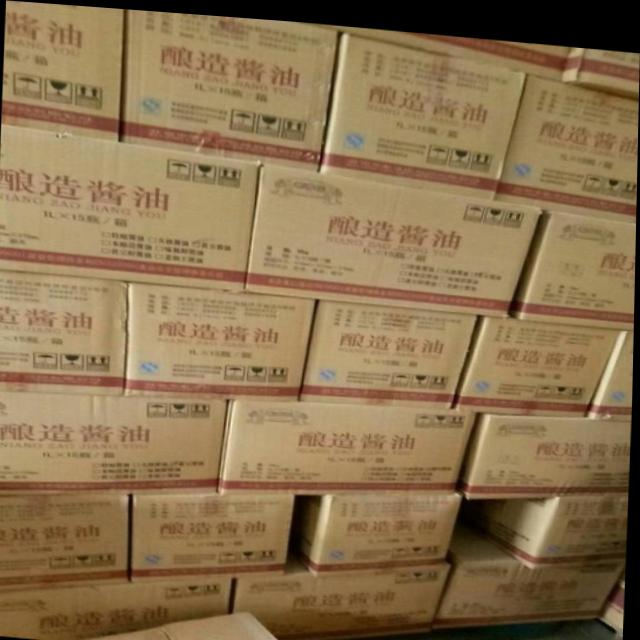box: (245, 157, 541, 312), (0, 124, 264, 288), (122, 8, 346, 165), (322, 26, 527, 194), (0, 392, 234, 496), (221, 398, 479, 490), (129, 279, 315, 398), (495, 66, 639, 212), (435, 514, 626, 624), (229, 546, 458, 637), (304, 296, 475, 402), (3, 0, 129, 140), (0, 572, 239, 640), (456, 310, 621, 407), (0, 271, 128, 392), (135, 490, 303, 580), (302, 18, 572, 72), (461, 408, 631, 492), (0, 492, 136, 593), (519, 201, 637, 316), (296, 486, 459, 568), (468, 485, 629, 560), (81, 607, 282, 640), (589, 319, 634, 413), (563, 40, 640, 91)
